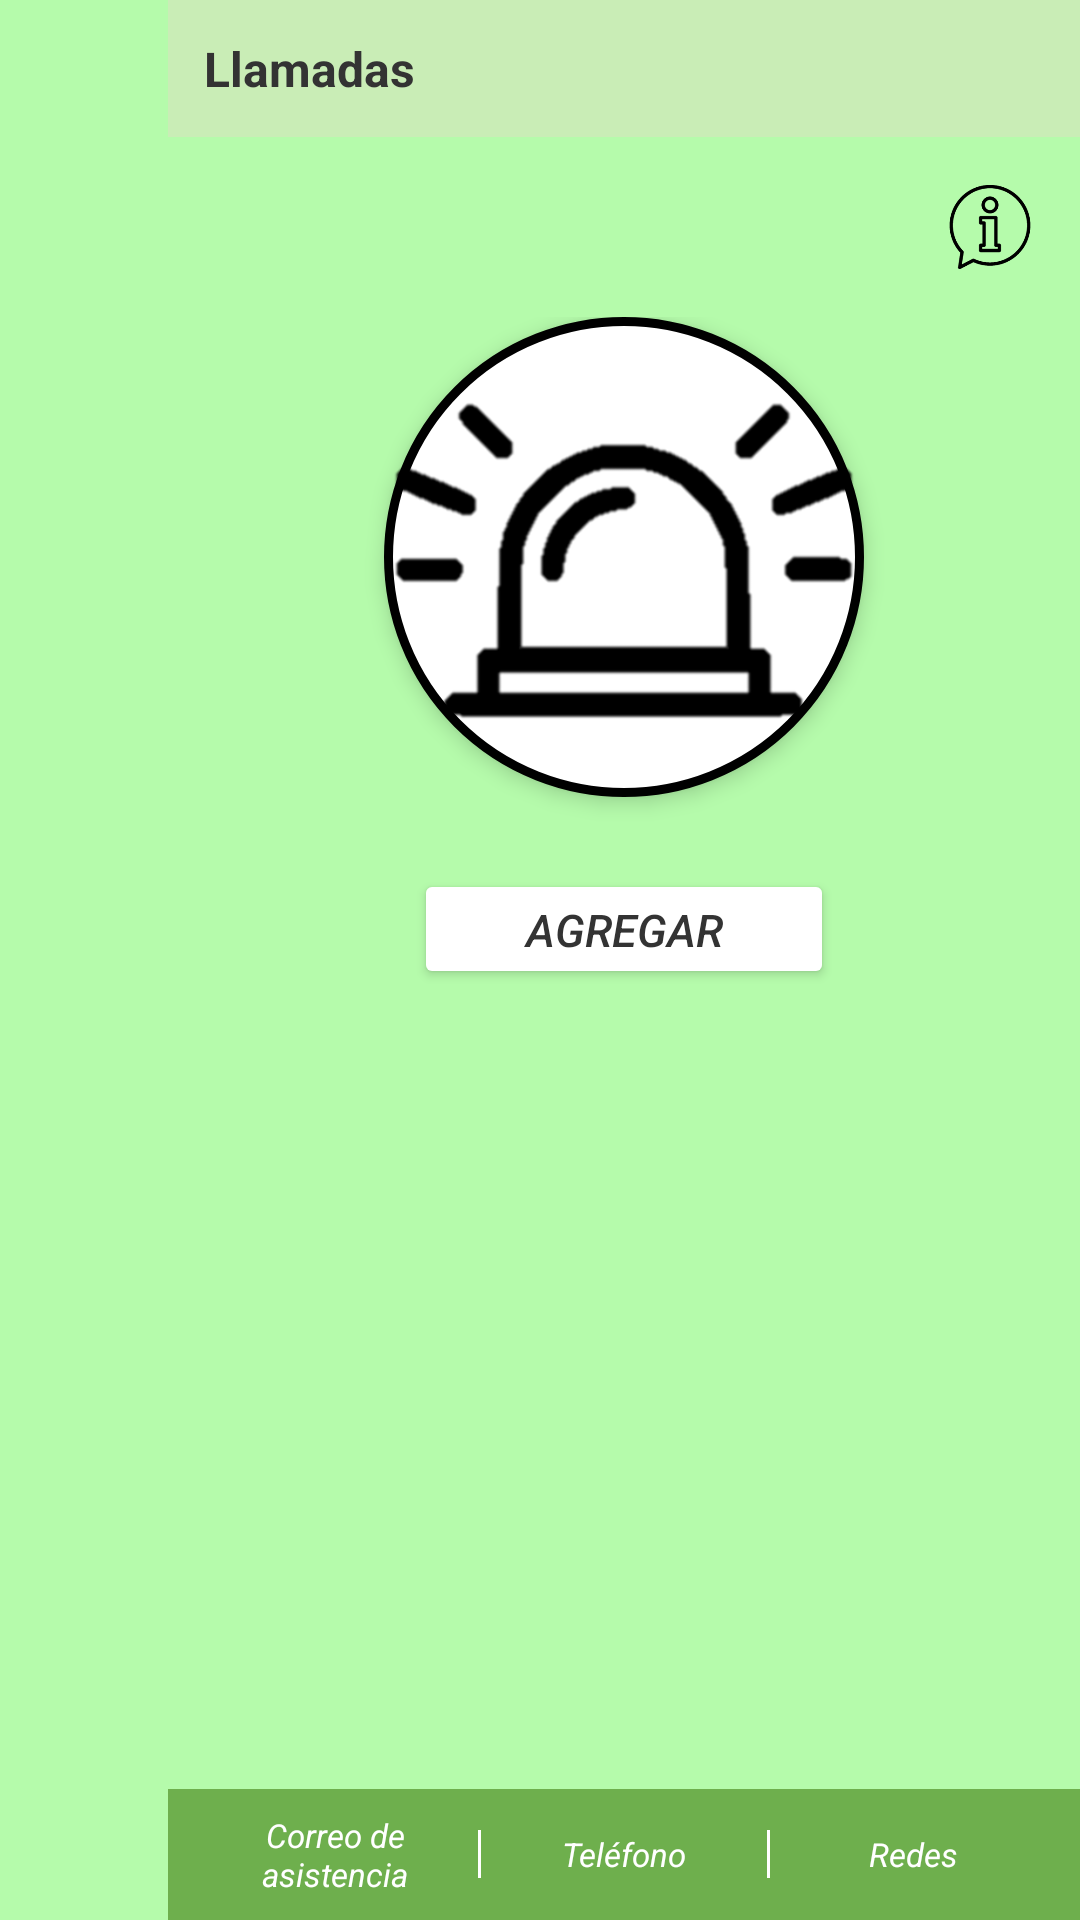

Where icons sit on this 1080*1920 app screen, as (x1, y1, x2, y2):
Información: (949, 185, 1031, 269)
